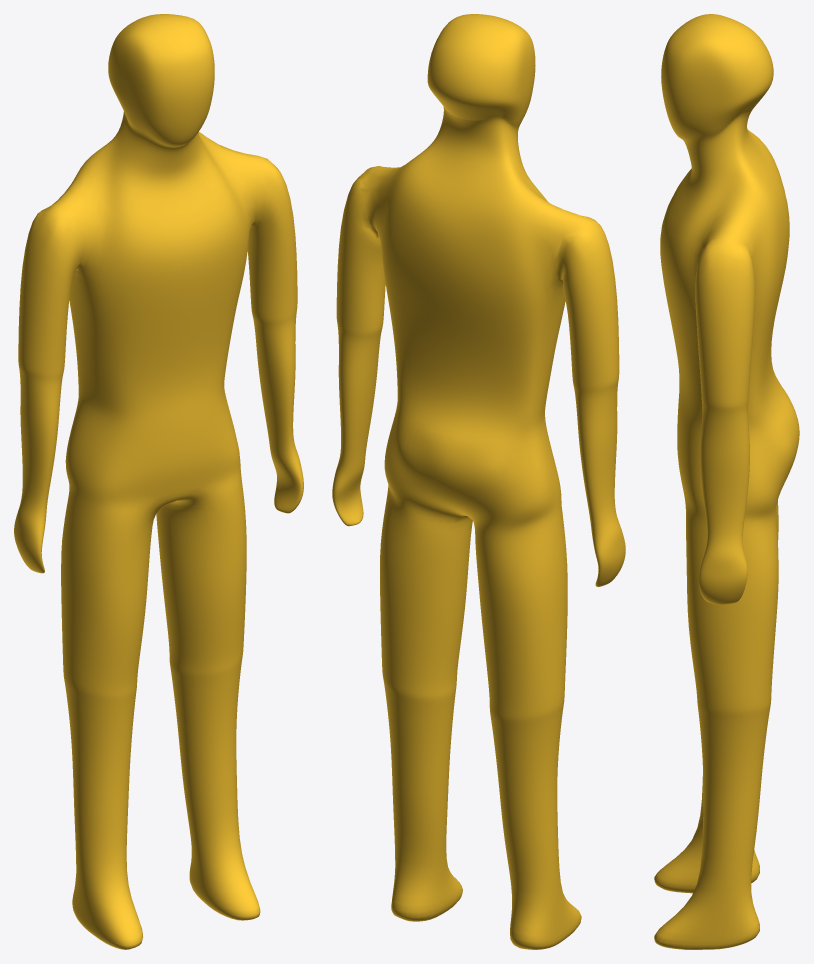
Rendered from human.export.tracked.gltf.
3 renders of one model, left to right at view 1: azimuth 30°, elevation 25°; view 2: azimuth 150°, elevation 25°; view 3: azimuth 270°, elevation 25°, orthographic.
Visible parts, largest first — view 1: Roundcube.003; view 2: Roundcube.003; view 3: Roundcube.003.
Boxes of the visible parts, box(x1,y1,x2,y2) form: Roundcube.003: box(14, 14, 303, 949); Roundcube.003: box(332, 14, 625, 949); Roundcube.003: box(654, 14, 799, 949).
Size of the model in its own units: 0.5693 by 1.76 by 0.2597.
